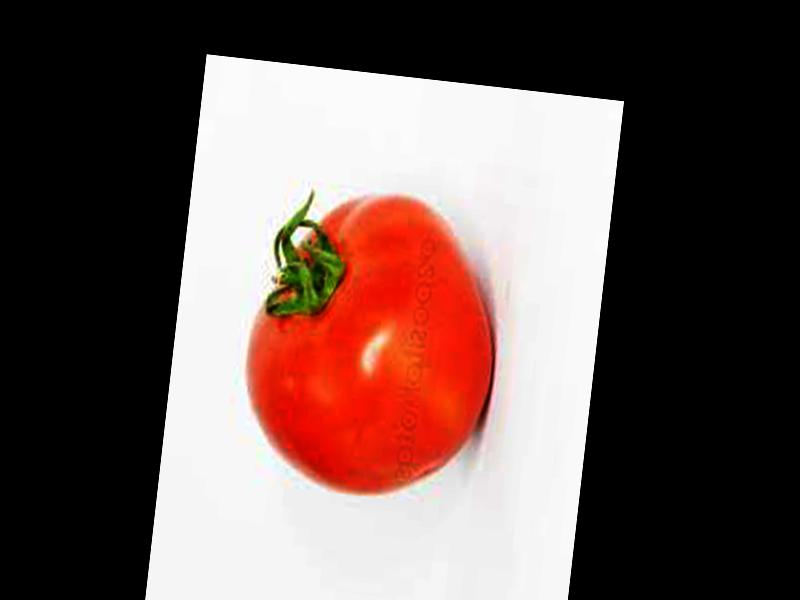Tomato: (229, 181, 510, 506)
